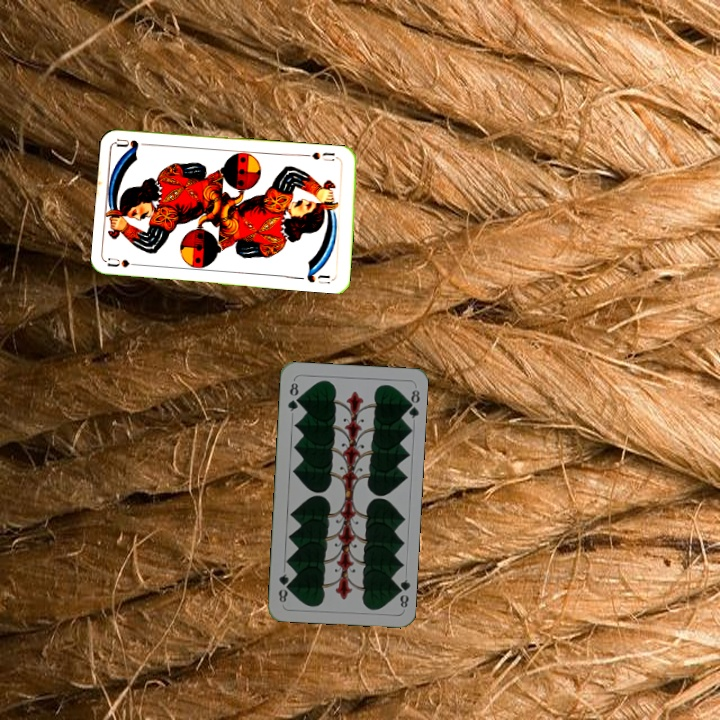G8: (392, 575, 413, 610), (283, 376, 302, 414)
SU: (105, 254, 146, 270), (308, 148, 343, 165)
